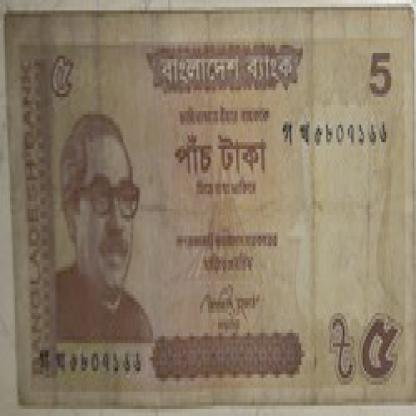Five Taka: (168, 128, 273, 184), (361, 309, 403, 398), (45, 45, 78, 114), (364, 42, 394, 104)
